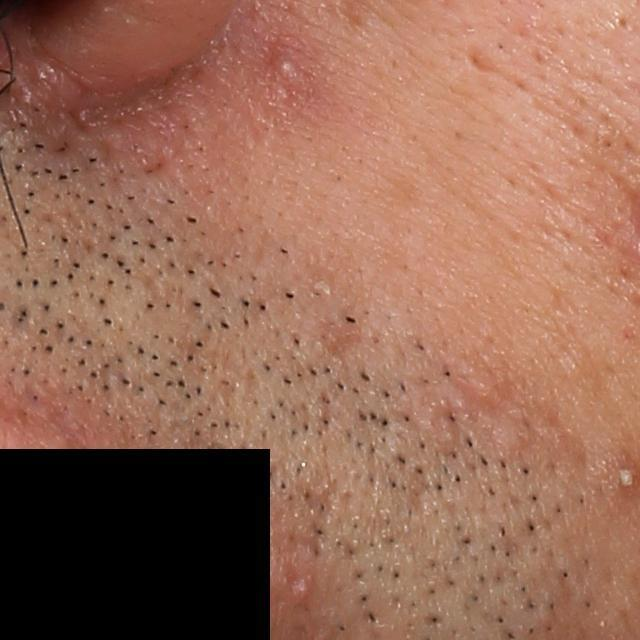atrophic_scar: (462, 46, 500, 74)
papule: (286, 568, 317, 605)
pustule: (266, 54, 308, 90)
